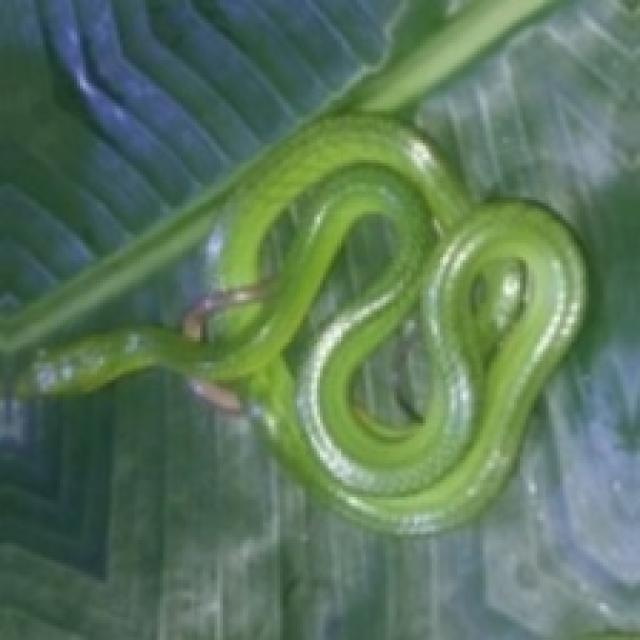red-tailed green ratsnake: (20, 114, 586, 531)
